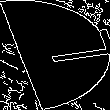L_W: (10, 35, 100, 75)
